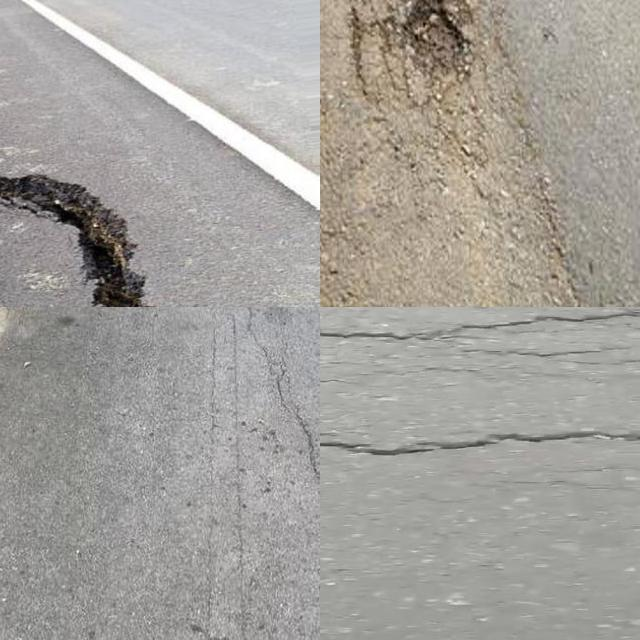Lubang: (332, 0, 497, 94)
Melintang: (320, 408, 640, 474), (320, 307, 640, 354)
Memanjang: (231, 307, 320, 593)
